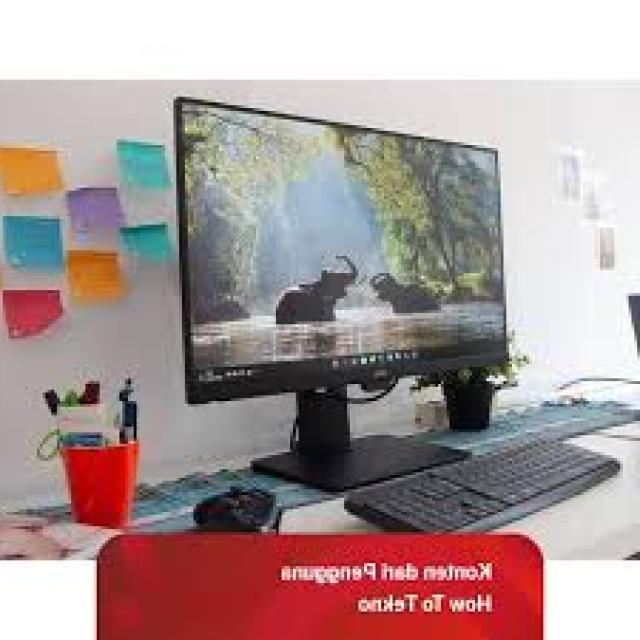monitor: (82, 118, 522, 486)
